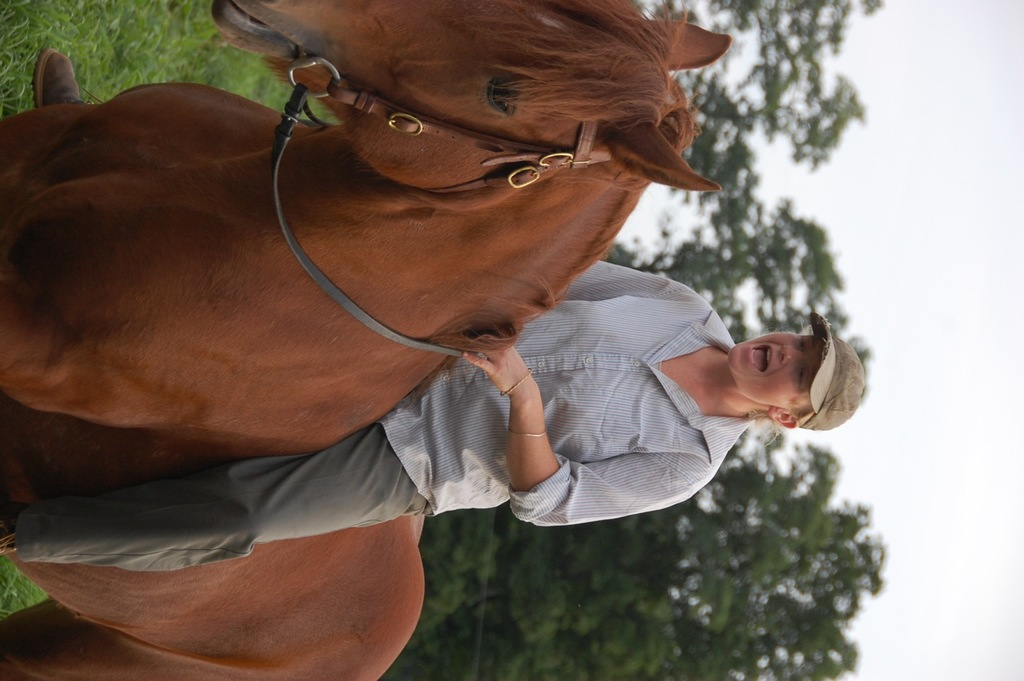Person: (0, 46, 865, 571)
